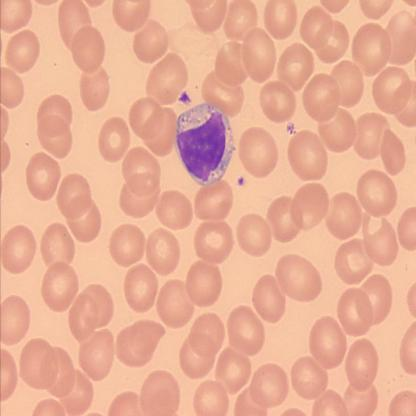Atypical lymphocyte: (174, 101, 239, 188)
